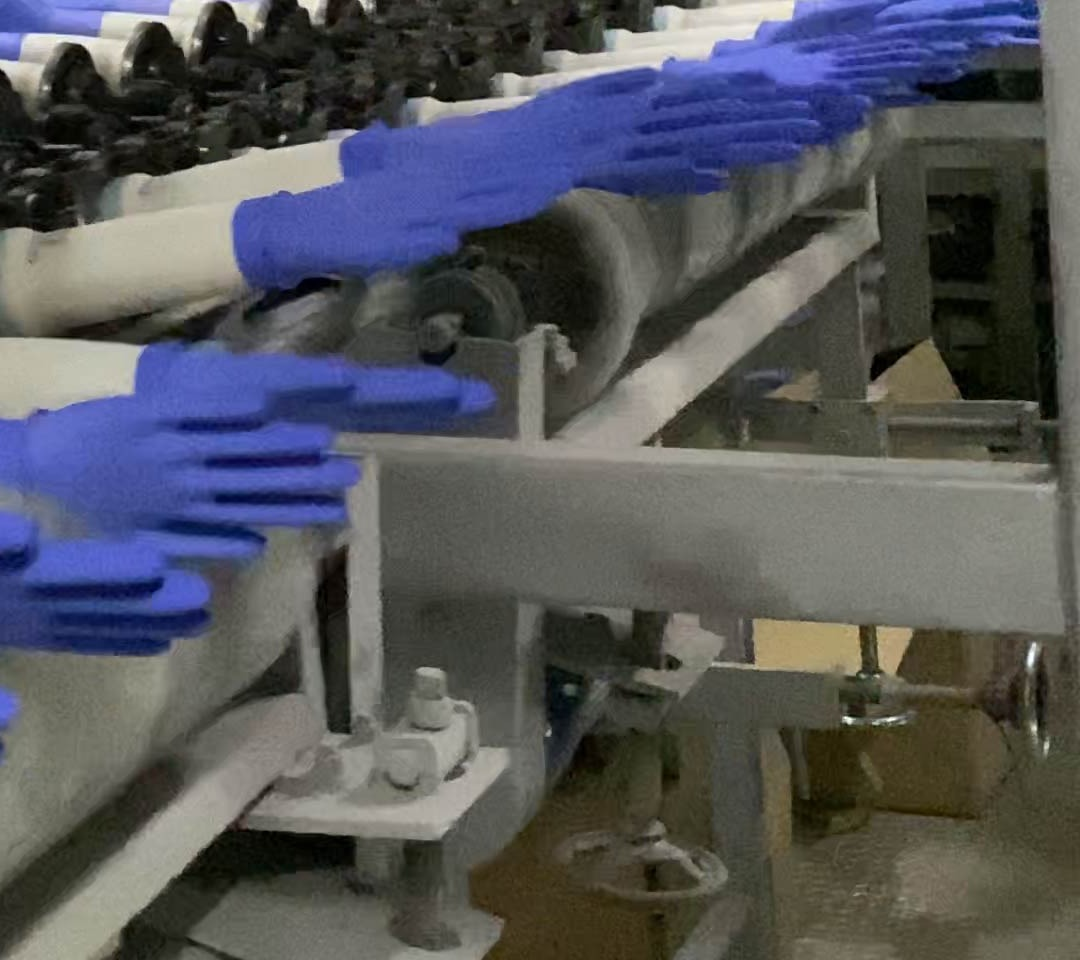glove: (1, 383, 360, 563), (337, 98, 819, 196), (129, 336, 501, 438), (257, 161, 574, 274), (1, 508, 217, 668)
